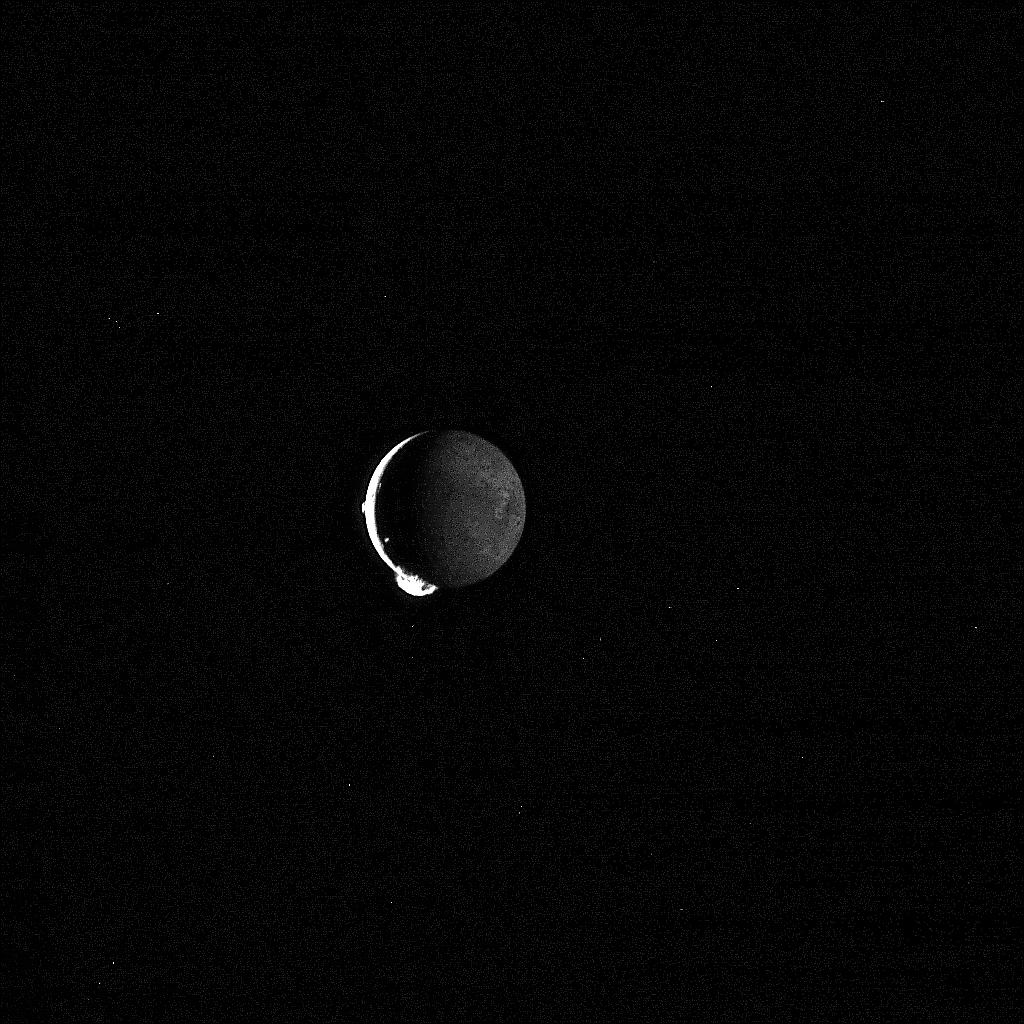plumes: (393, 568, 441, 598), (360, 499, 367, 516)
